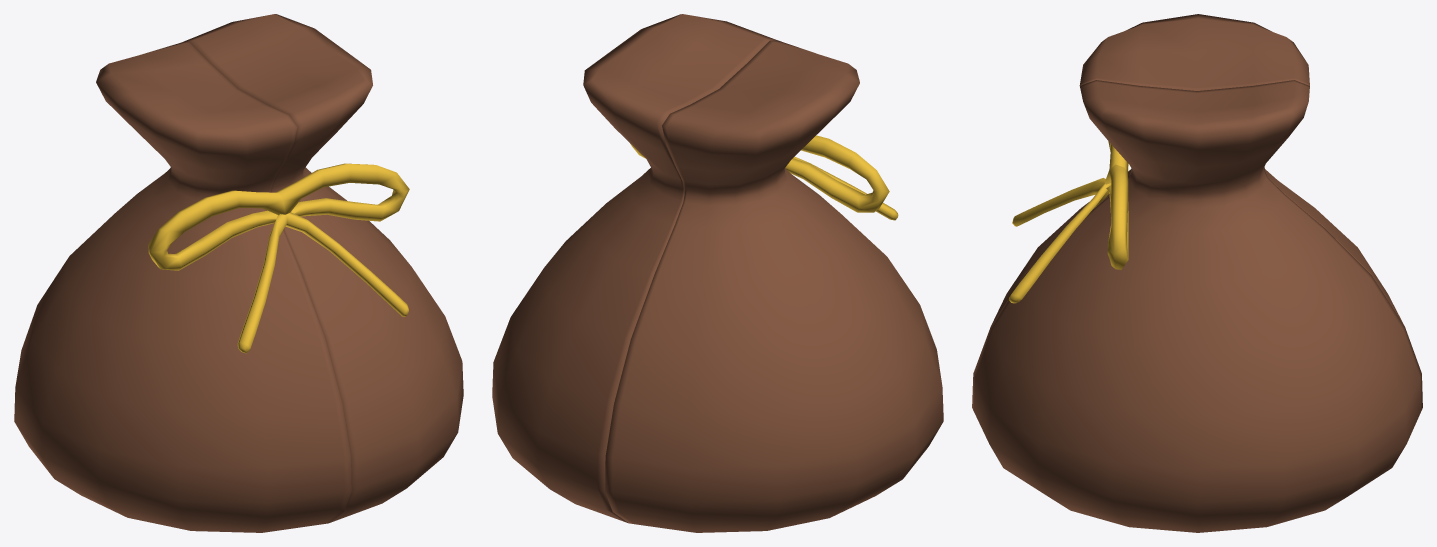
The model's file is SM_CoinBag_01a.fbx.
3 renders of one model, left to right at view 1: azimuth 30°, elevation 25°; view 2: azimuth 150°, elevation 25°; view 3: azimuth 270°, elevation 25°, orthographic.
Visible parts, largest first — view 1: CoinBag_02, CoinBag_01; view 2: CoinBag_02, CoinBag_01; view 3: CoinBag_01, CoinBag_02.
Boxes of the visible parts, x1,y1,x2,y2 form: CoinBag_02: (14, 42, 351, 532); CoinBag_01: (182, 14, 463, 522); CoinBag_02: (605, 40, 943, 532); CoinBag_01: (492, 14, 776, 522); CoinBag_01: (972, 80, 1422, 532); CoinBag_02: (991, 14, 1404, 325).
Size of the model in its own units: 31.18 by 31.33 by 31.09.
